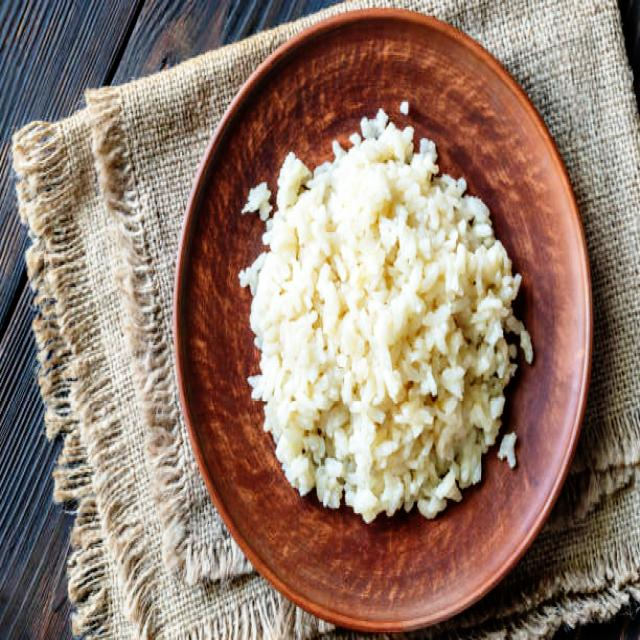rice: (240, 102, 536, 522)
